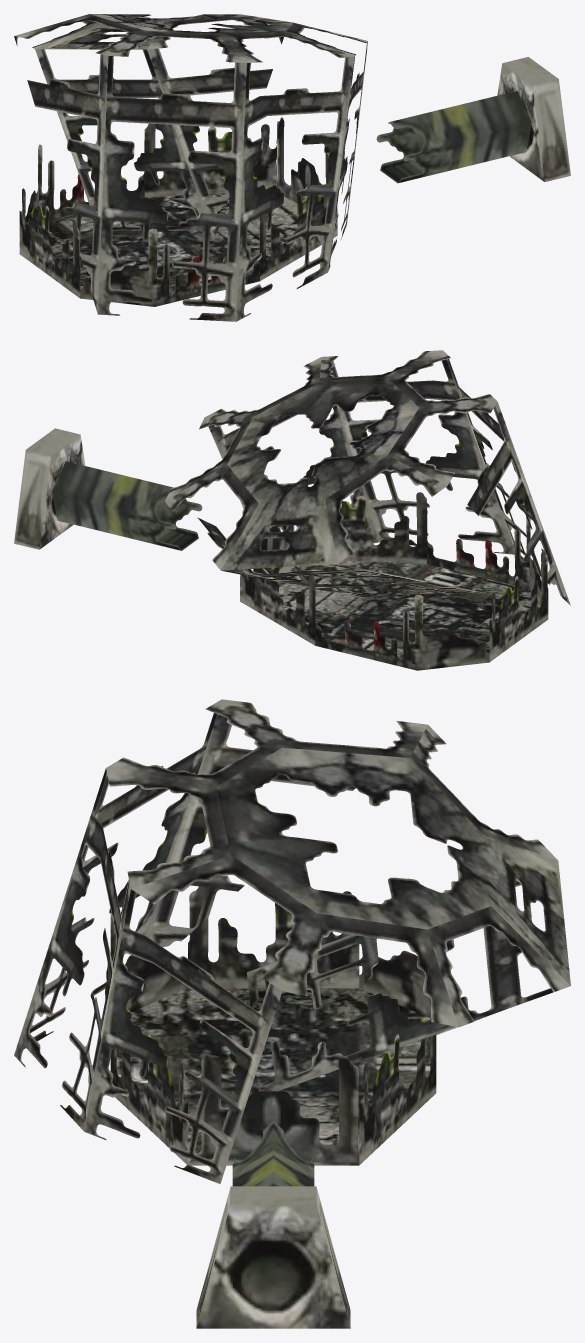
File: pipetank_dam_hdtex.glb
3 views of the same model, one above another, from view 1: azimuth 30°, elevation 25°; view 2: azimuth 150°, elevation 25°; view 3: azimuth 270°, elevation 25° (orthographic). The views are drawn at different scales.
Visible parts, largest first — view 1: Pipetank01; view 2: Pipetank01; view 3: Pipetank01.
Part boxes in pixels (x1=…): Pipetank01: x1=14, y1=14, x2=570, y2=321; Pipetank01: x1=14, y1=350, x2=570, y2=670; Pipetank01: x1=14, y1=699, x2=570, y2=1328.
Size of the model in its own units: 16.11 by 7.04 by 11.07.
Materials: 1 (1 with a texture image).
